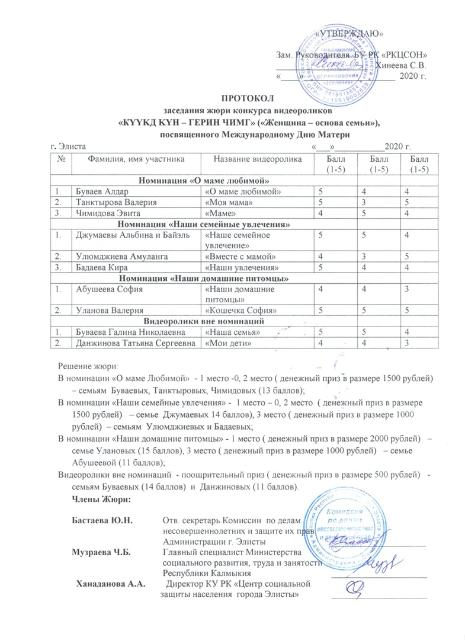stamp: (302, 486, 388, 572), (294, 23, 378, 107)
